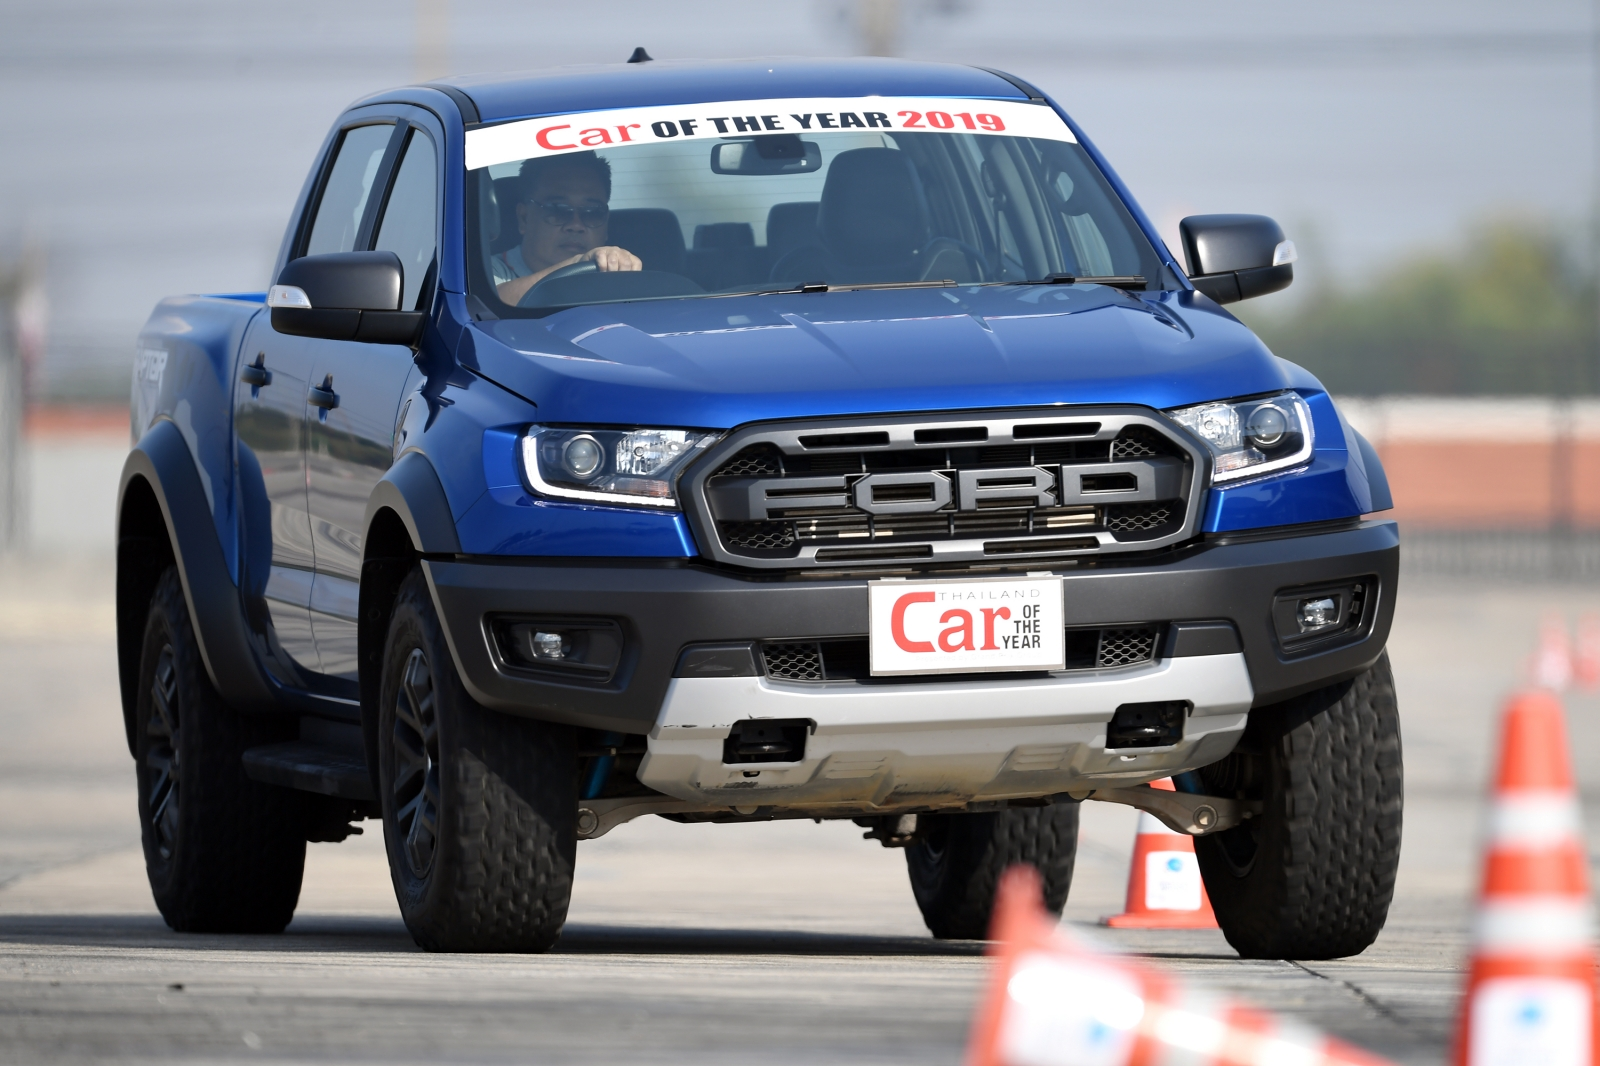car: (83, 35, 1420, 968)
